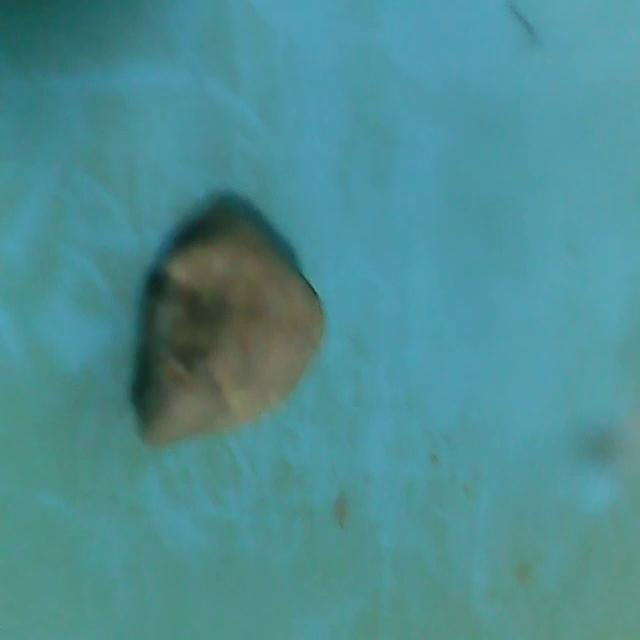rock: (127, 216, 328, 464)
